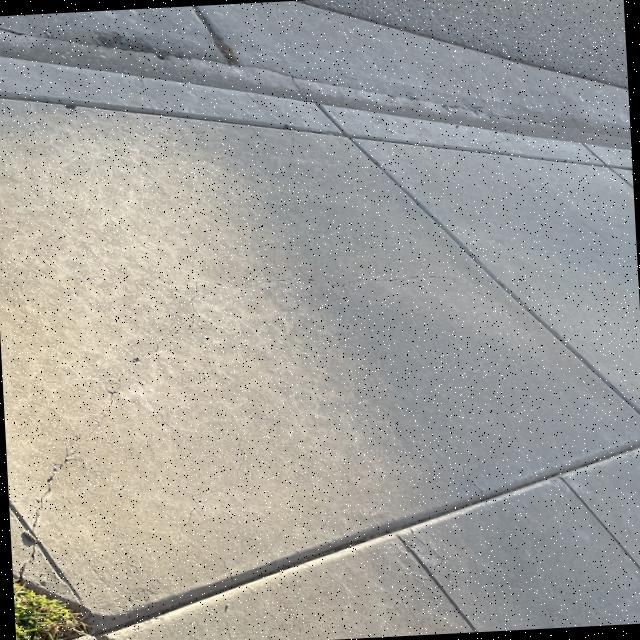curb: (87, 0, 526, 177), (0, 1, 352, 183), (320, 56, 632, 192)
